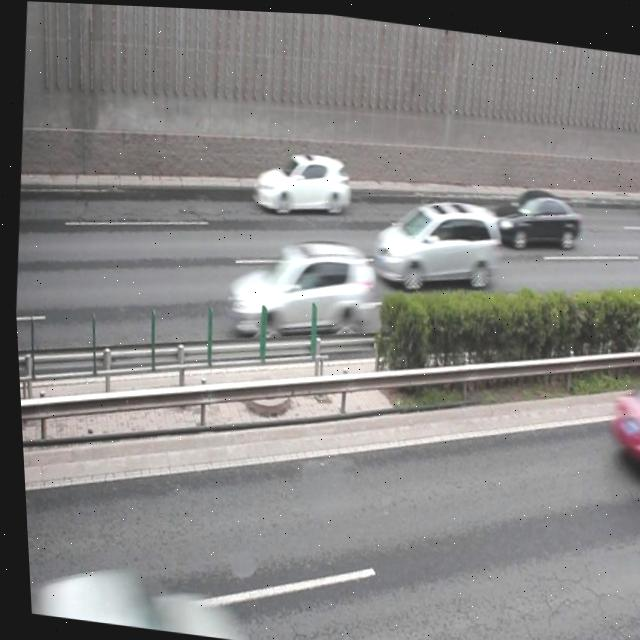car: (22, 549, 248, 640), (216, 224, 376, 350), (246, 139, 353, 217), (484, 176, 582, 250), (637, 160, 640, 212)
truck: (365, 183, 502, 292)
